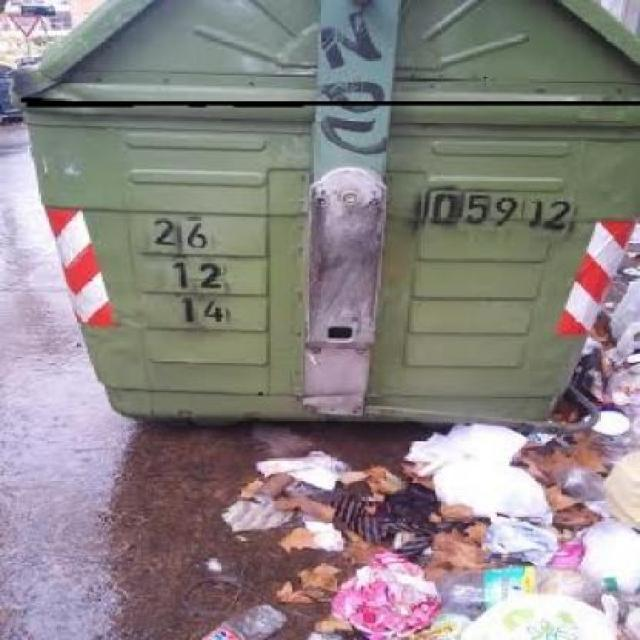garbage: (254, 425, 626, 640)
